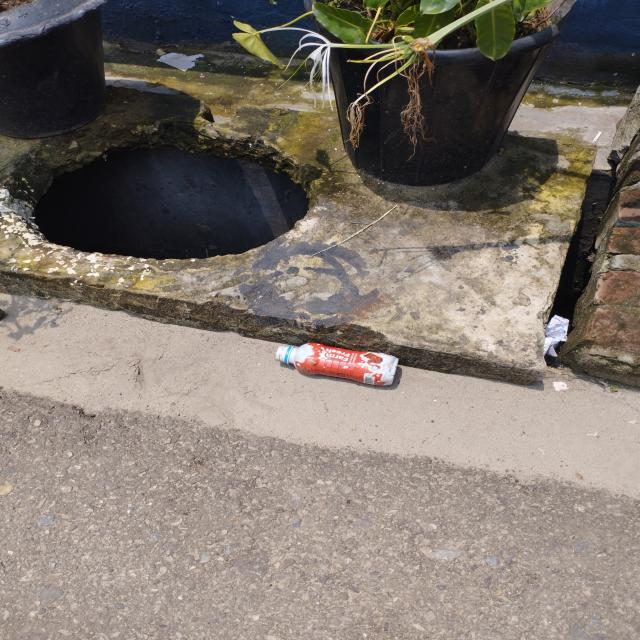paper: (160, 49, 202, 72), (549, 314, 567, 358)
plastic: (275, 339, 401, 389)
